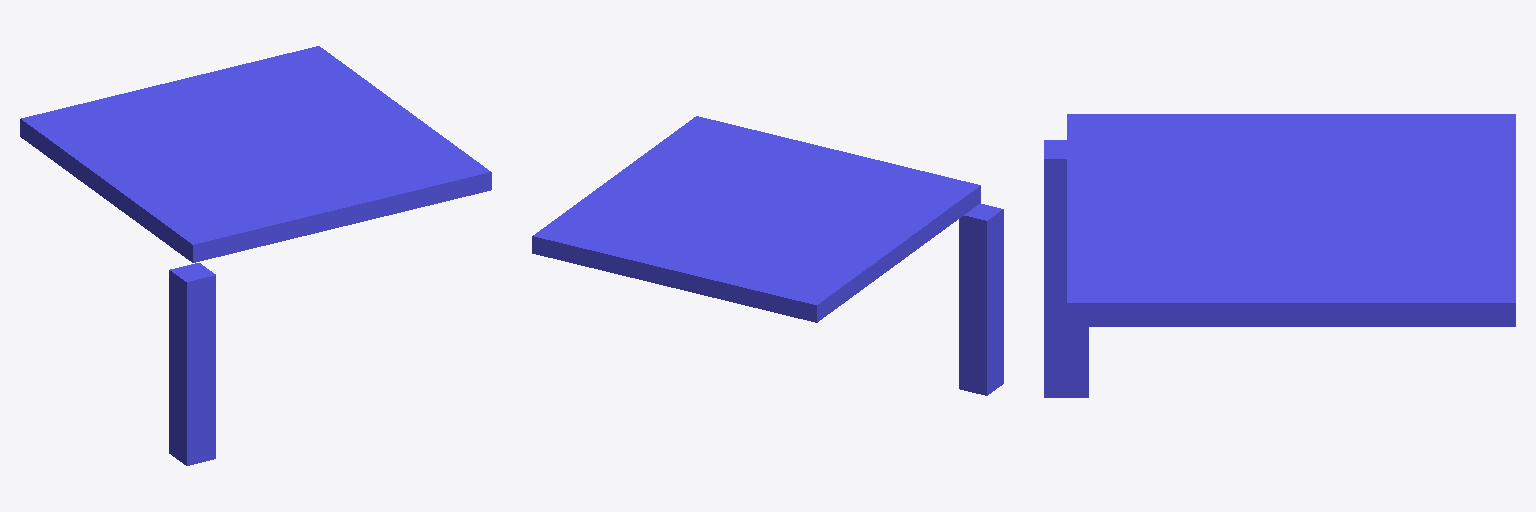
URDF robot description (blocks):
<robot name="blocks">

  <link name="world">
    <inertial>
      <mass value="0"/>
      <inertia ixx="0" ixy="0" ixz="0"
                  iyx="0" iyy="0" iyz="0"
                  izx="0" izy="0" izz="0"/>
    </inertial>
  </link>

  <link name="stand">
    <inertial>
      <origin xyz="0 0 0" />
      <mass value="0.1" />
      <inertia  ixx="0.00003375" ixy="0.0"  ixz="0.0"  iyy="0.00003375"  iyz="0.0"  izz="0.00003375" />
    </inertial>

    <visual>
      <origin xyz="0 0 0"/>
      <geometry>
        <box size="0.085 0.085 0.50" />
      </geometry>
      <material name="red">
        <color rgba="0.4 0.4 1.0 1.0"/>
      </material>
    </visual>

    <collision>
      <origin xyz="0 0 0"/>
      <geometry>
        <box size="0.085 0.085 0.50" />
      </geometry>
    </collision>

  </link>


  <link name="block">

      <inertial>
        <origin xyz="0 0 0" />
        <mass value="0.1" />
        <inertia  ixx="0.00003375" ixy="0.0"  ixz="0.0"  iyy="0.00003375"  iyz="0.0"  izz="0.00003375" />
      </inertial>

      <visual>
        <origin xyz="0 0 0"/>
        <geometry>
          <box size="0.85 0.85 0.050" />
        </geometry>
        <material name="red">
          <color rgba="0.4 0.4 1.0 1.0"/>
        </material>
      </visual>

      <collision>
        <origin xyz="0 0 0"/>
        <geometry>
          <box size="0.85 0.85 0.050" />
        </geometry>
      </collision>

  </link>



  <!-- connect arm to world -->
  <joint name="world_arm_joint" type="fixed">
    <parent link="world"/>
    <child link="stand"/>
    <axis xyz="0 0 0"/>
    <origin rpy="0.0 0.0 0.0" xyz="0 0 0"/>
  </joint>

  <joint name="prismatic_joint" type="prismatic">
    <parent link="stand"/>
    <child link="block"/>
    <axis xyz="0 0 1"/>
    <limit upper="1000" lower="-0.8757" velocity="2.0"/>
    <origin rpy="0.0 0.0 0" xyz="0.425 0.425 0.3"/>
  </joint>


</robot>

--- What the picture shows (computed from the rendered views, not written in the file) ---
The picture shows the robot from 3 angles, left to right: view 1: azimuth 30°, elevation 25°; view 2: azimuth 150°, elevation 25°; view 3: azimuth 270°, elevation 25°; orthographic projection.
Model blocks with 3 links and 2 joints (1 prismatic, 1 fixed), rooted at world, posed all joints at 0.
Visible links, largest first — view 1: block, stand; view 2: block, stand; view 3: block, stand.
Link boxes in pixels (x1=…): block: x1=20, y1=46, x2=491, y2=262; stand: x1=169, y1=263, x2=215, y2=465; block: x1=532, y1=116, x2=980, y2=322; stand: x1=959, y1=203, x2=1003, y2=395; block: x1=1067, y1=114, x2=1515, y2=326; stand: x1=1044, y1=140, x2=1088, y2=397.
Size in the robot's own frame: 0.8925 by 0.8925 by 0.575 metres.
Geometry: primitives only (box / cylinder / sphere), no mesh files.